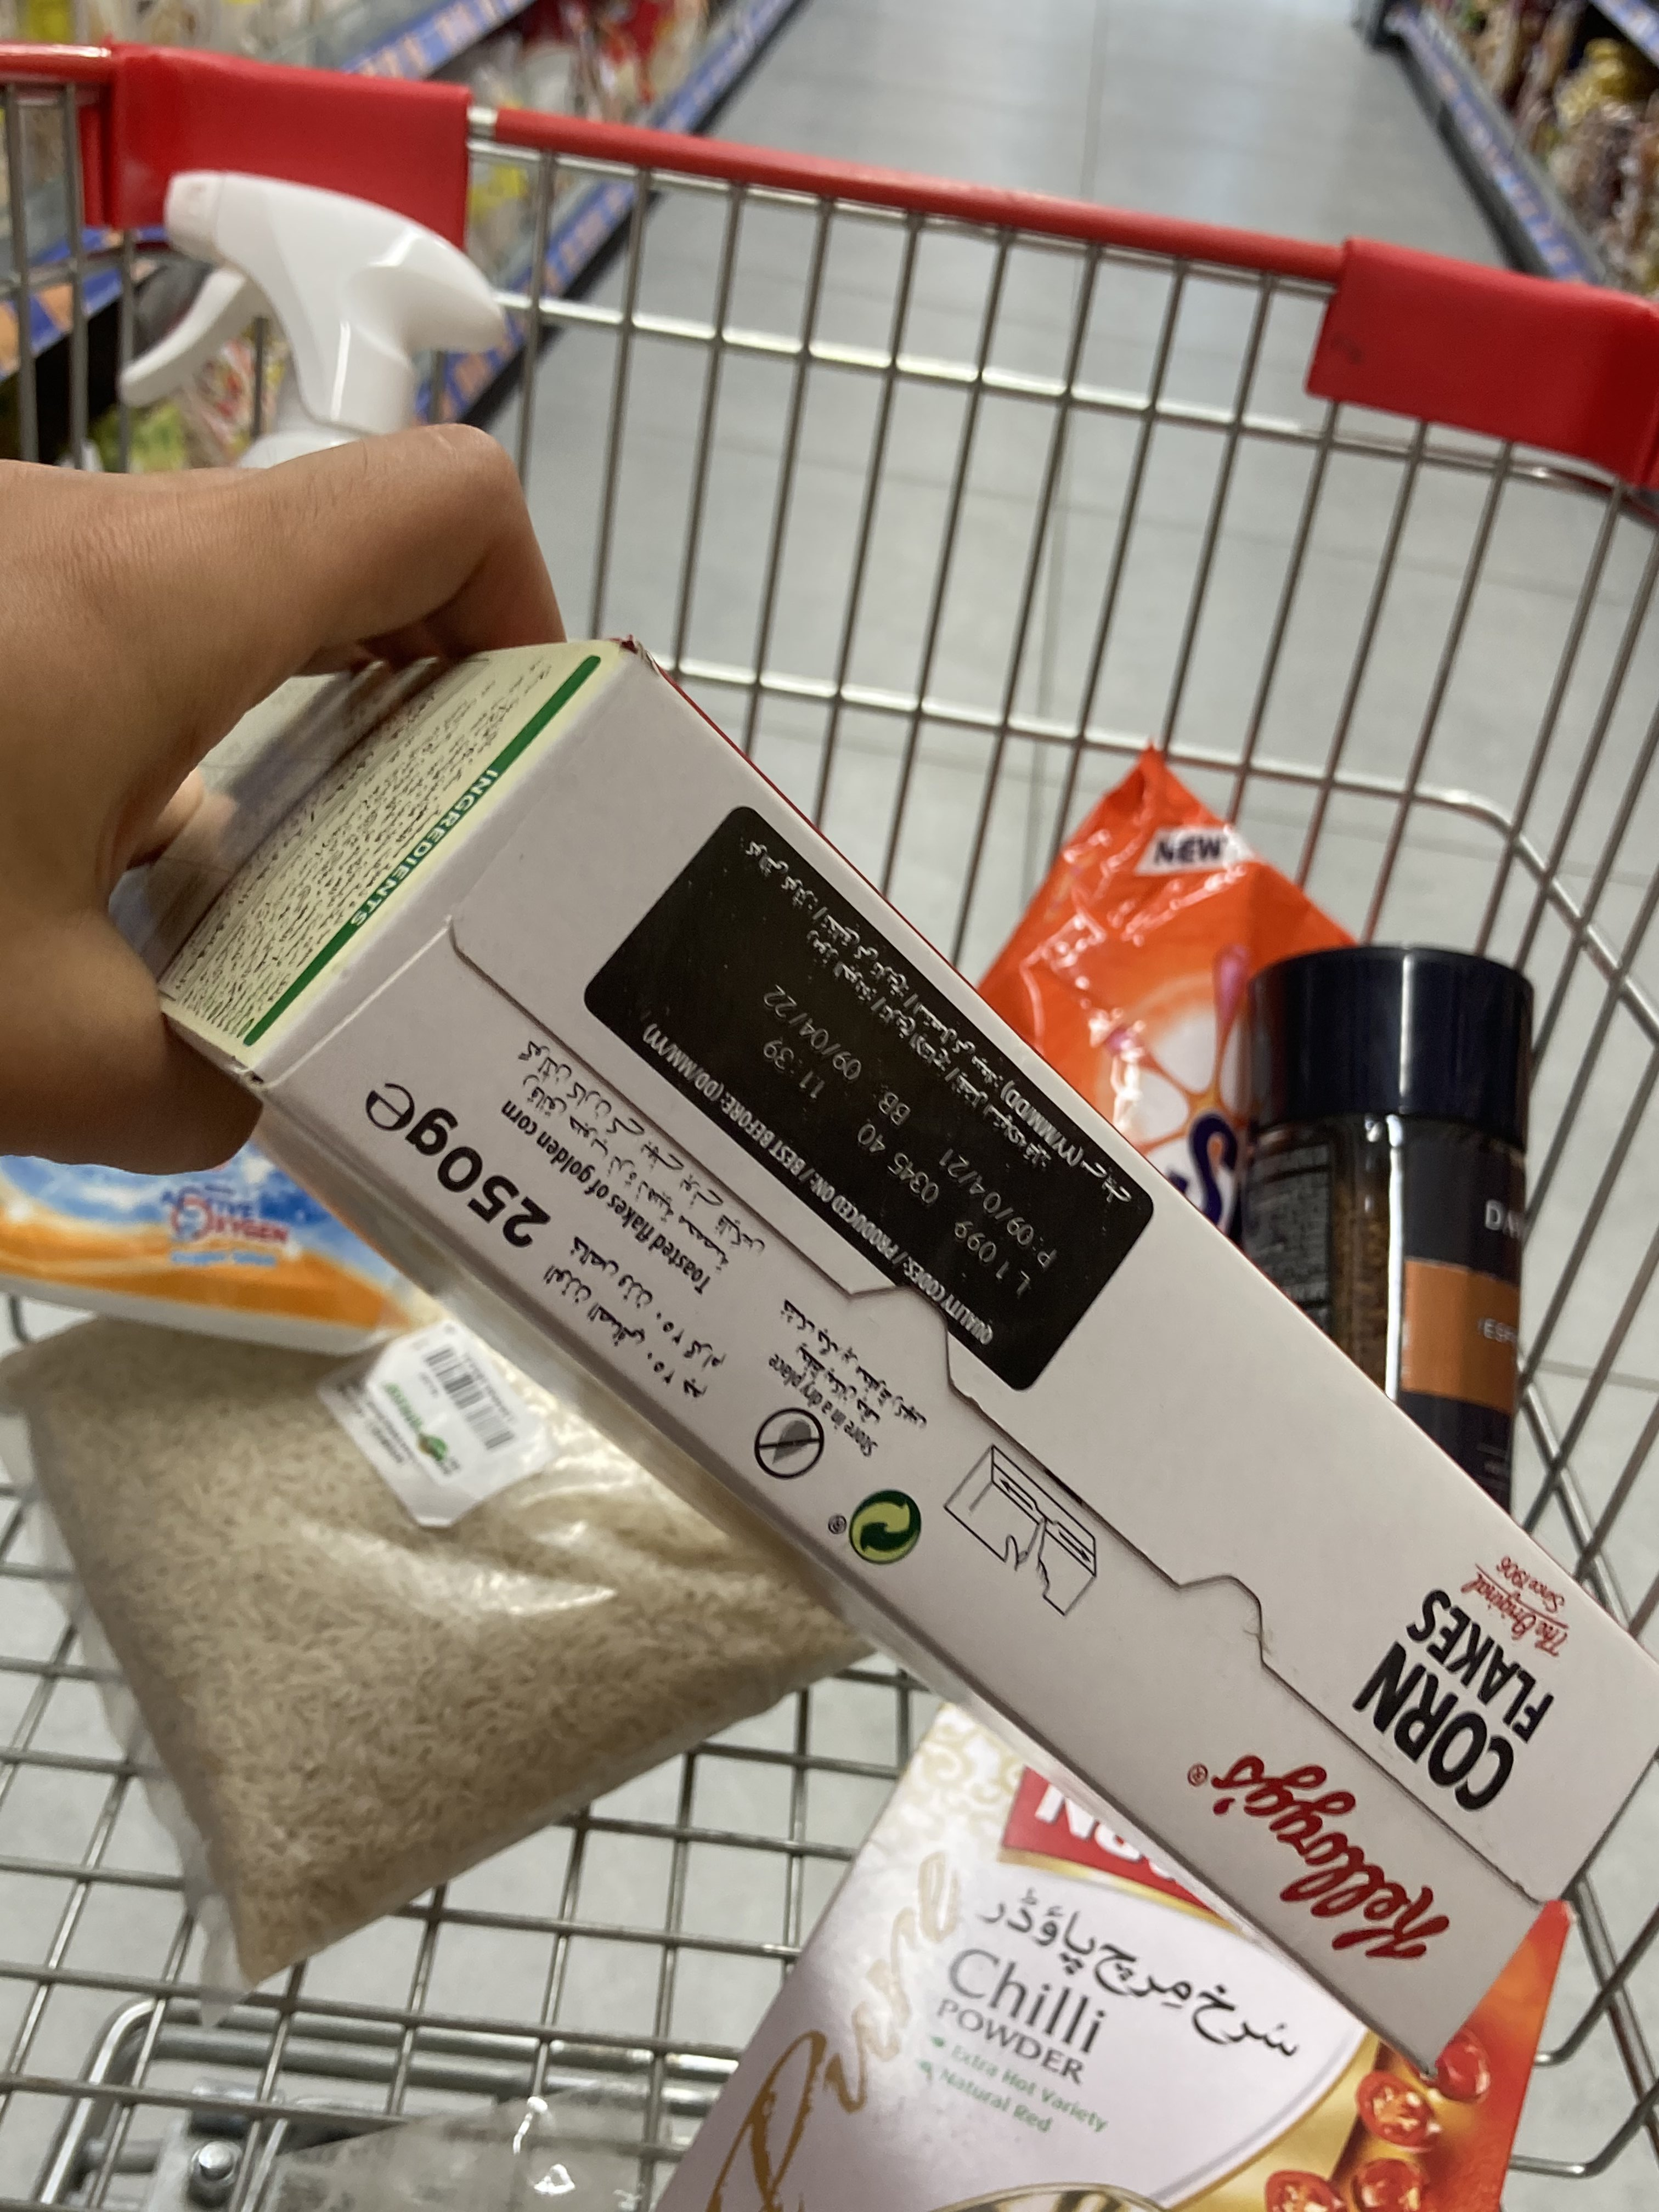Kellogg's Corn Flakes: (132, 625, 1659, 2073)
